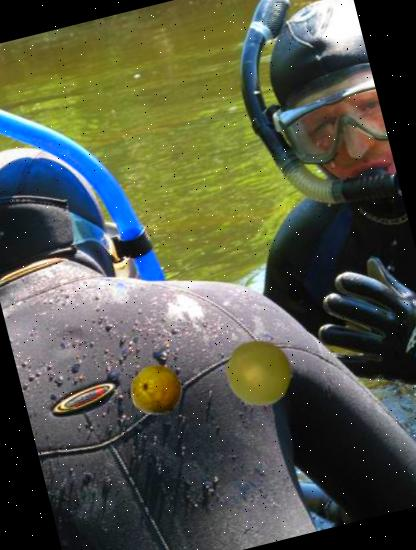Grape: (218, 333, 298, 413)
Guava: (125, 359, 189, 424)
